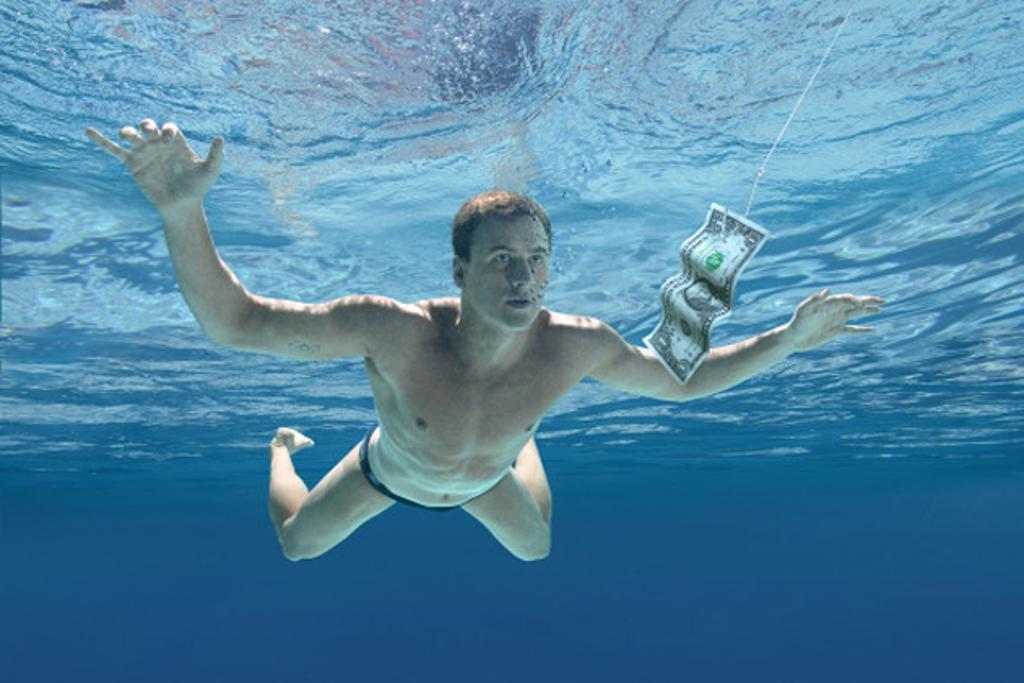face: (480, 230, 560, 326)
